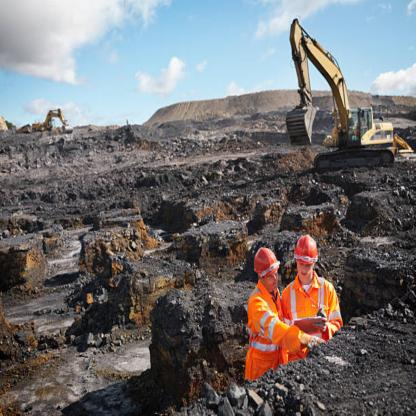excavator: (280, 15, 404, 173), (26, 101, 72, 136)
person: (292, 233, 344, 357), (243, 247, 294, 370)
